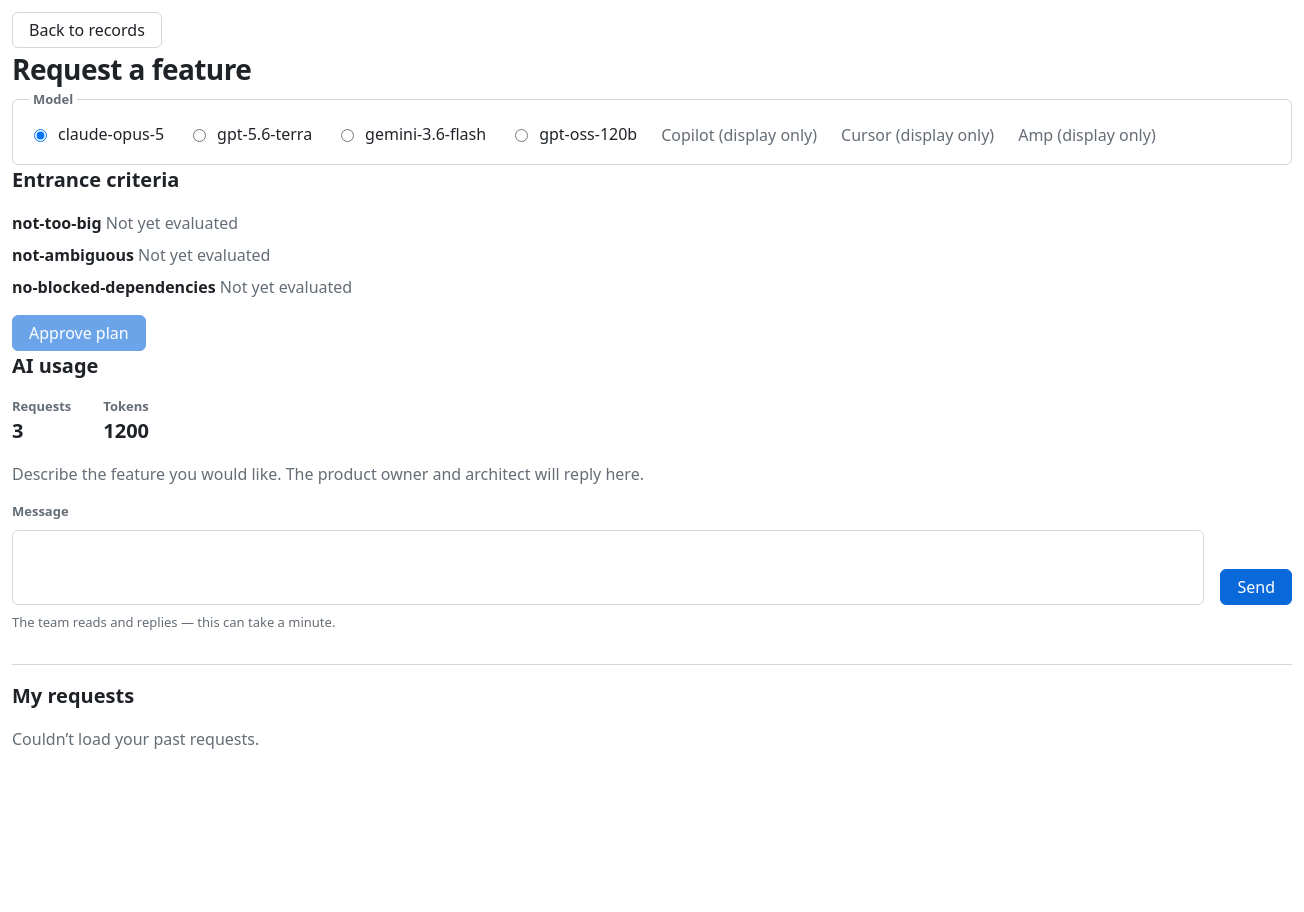
Scenario: DAN-54 quota meter › refreshes after each exchange
Check: the element "AI usage" shows "1200", box [103, 417, 149, 444]
Type "Please add CSV export" into the text box labelled "Message" at [608, 567], box [12, 530, 1204, 604]
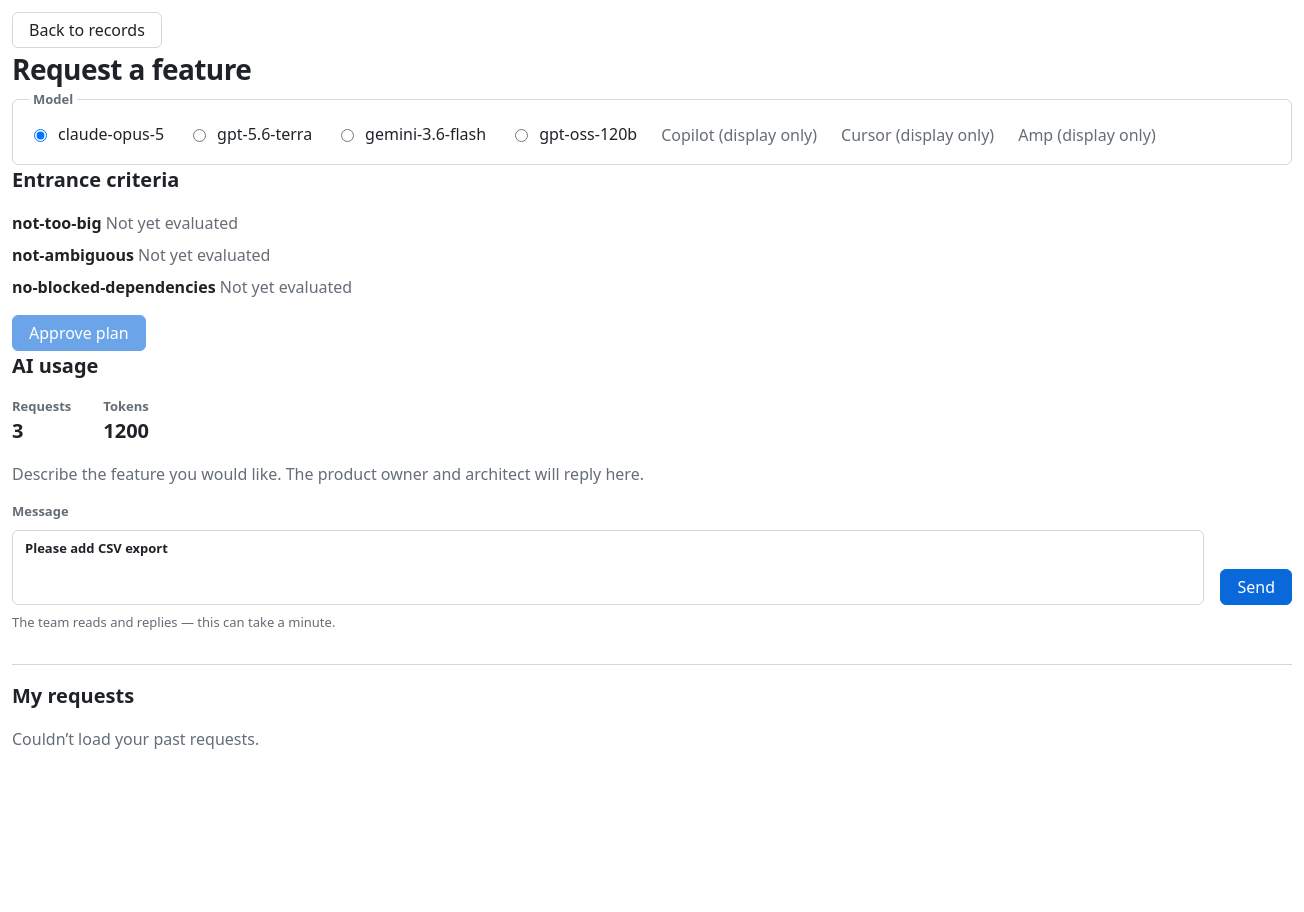
Click the button "Send" at [1256, 586], box [1220, 568, 1292, 604]
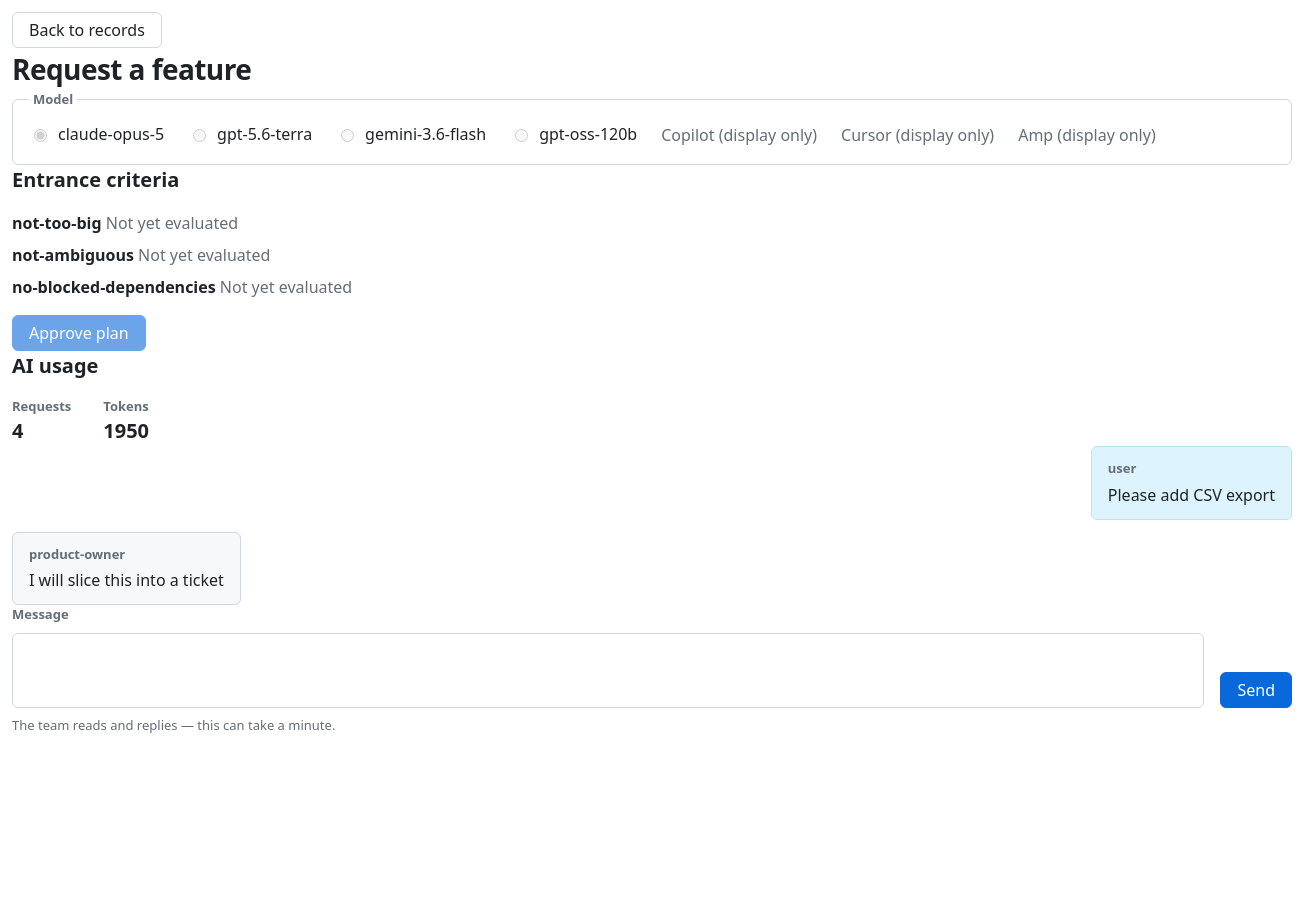
Check: the element "AI usage" shows "1950", box [103, 417, 149, 444]
Check: the element "AI usage" shows "4", box [12, 417, 24, 444]
